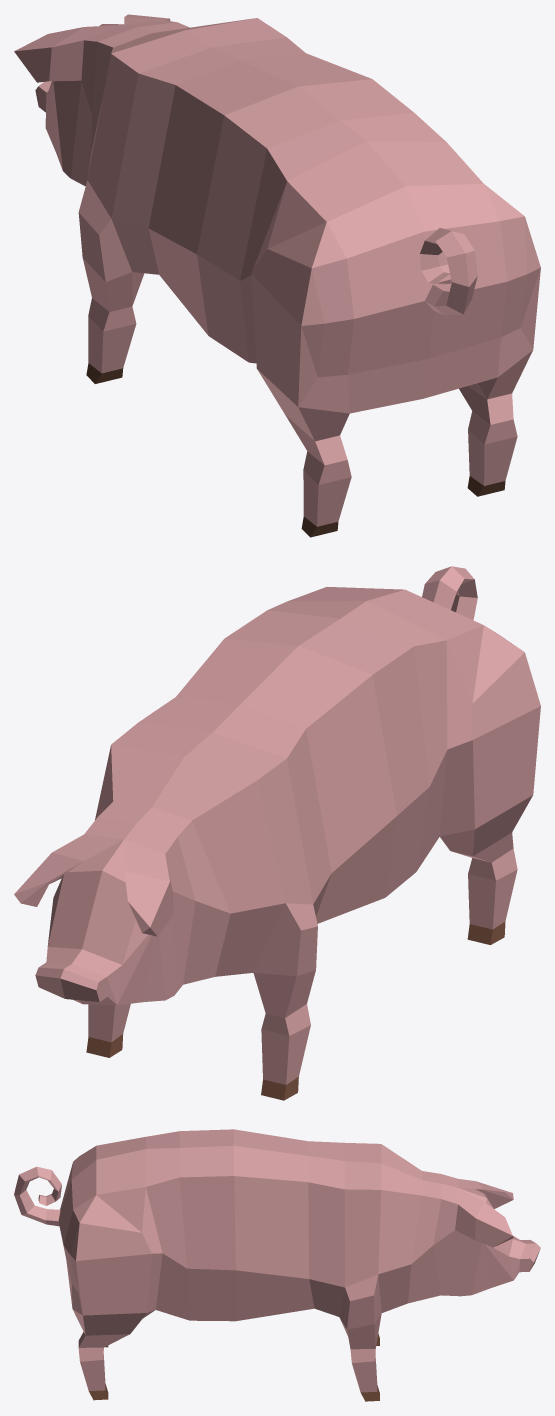
The model's file is pig.glb.
3 renders of one model, top to bottom at view 1: azimuth 30°, elevation 25°; view 2: azimuth 150°, elevation 25°; view 3: azimuth 270°, elevation 25°, orthographic. The views are drawn at different scales.
Parts seen in each view (by area): view 1: Pig; view 2: Pig; view 3: Pig.
Boxes of the visible parts, box(x1,y1,x2,y2) form: Pig: box(14, 14, 540, 537); Pig: box(14, 566, 540, 1100); Pig: box(14, 1129, 540, 1401).
Size of the model in its own units: 1.15 by 1.6 by 3.41.
